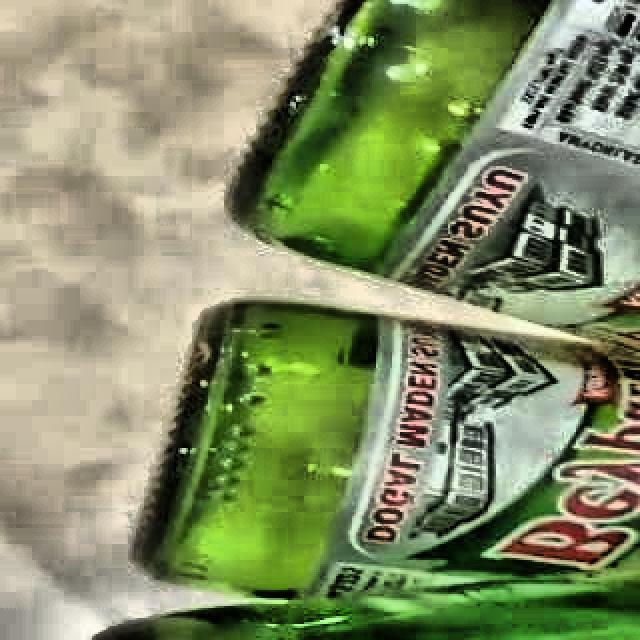glass: (100, 0, 640, 640)
